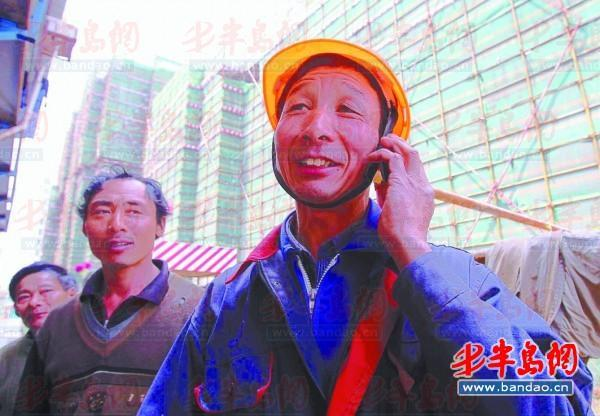helmet: (261, 41, 408, 144)
